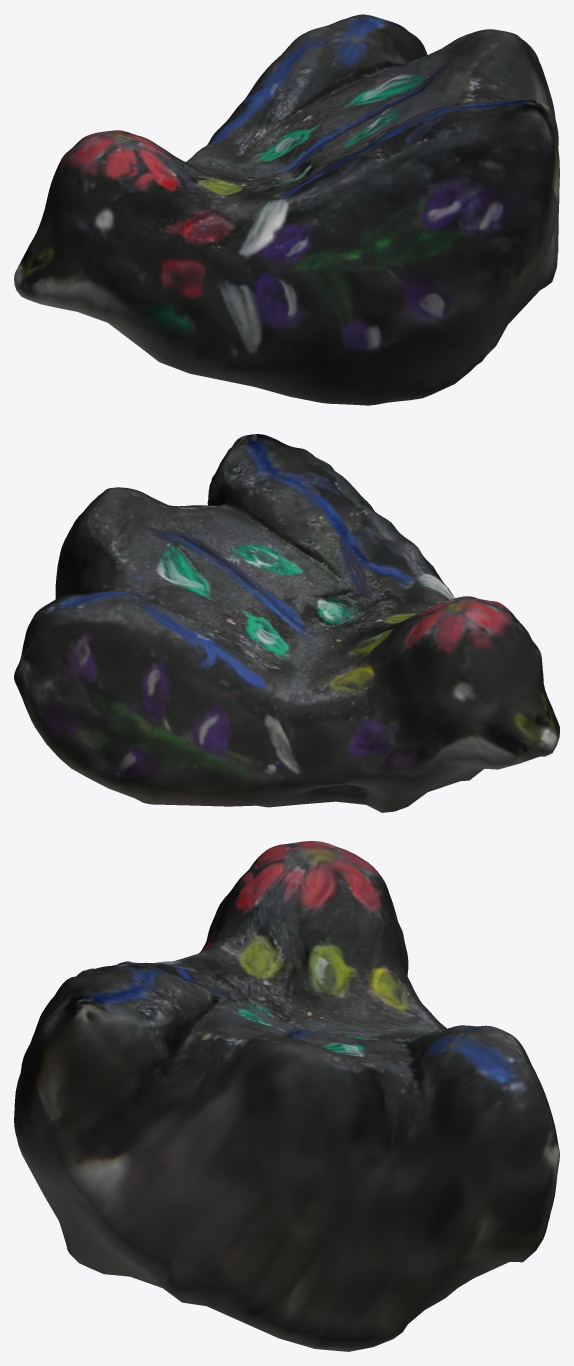
3 renders of one model, top to bottom at view 1: azimuth 30°, elevation 25°; view 2: azimuth 150°, elevation 25°; view 3: azimuth 270°, elevation 25°, orthographic. The views are drawn at different scales.
Bounding box in the file's own units: 0.5626 × 0.2931 × 0.4319.
1 material, 1 textured.
